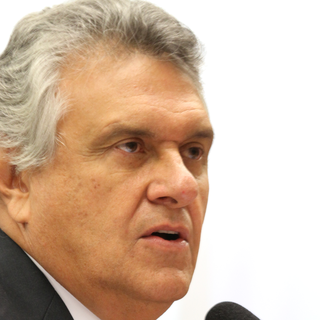eye: (106, 134, 154, 159), (176, 136, 209, 164)
